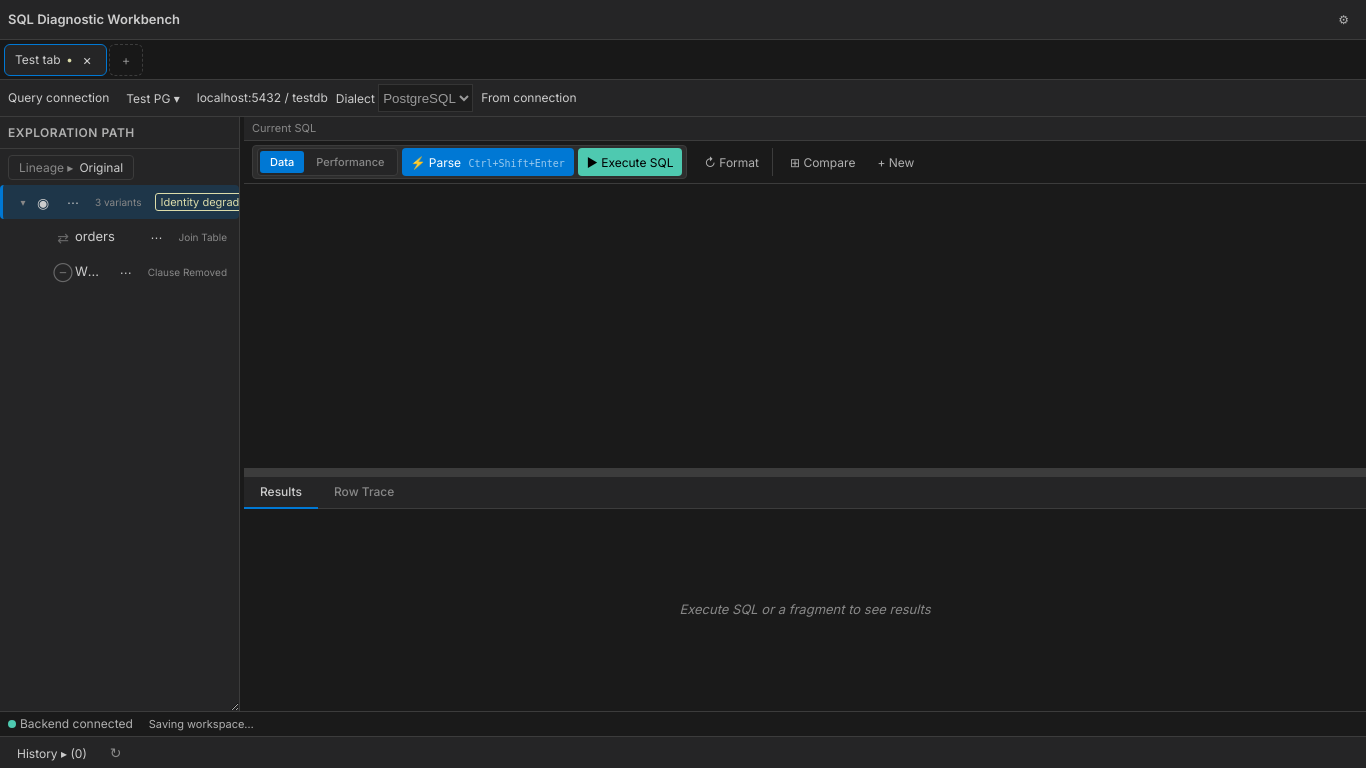
Scenario: App fragment-edit notice — degraded source (spec §5) › blank source marker still states the degradation, with no empty Reason tail
Check: the button "▶ Execute SQL" is shown, box [578,148,682,176]
Right-click the list item "▾ ◉ ⋯ 3 variants Identity degraded": [120, 202] box [0,185,239,219]
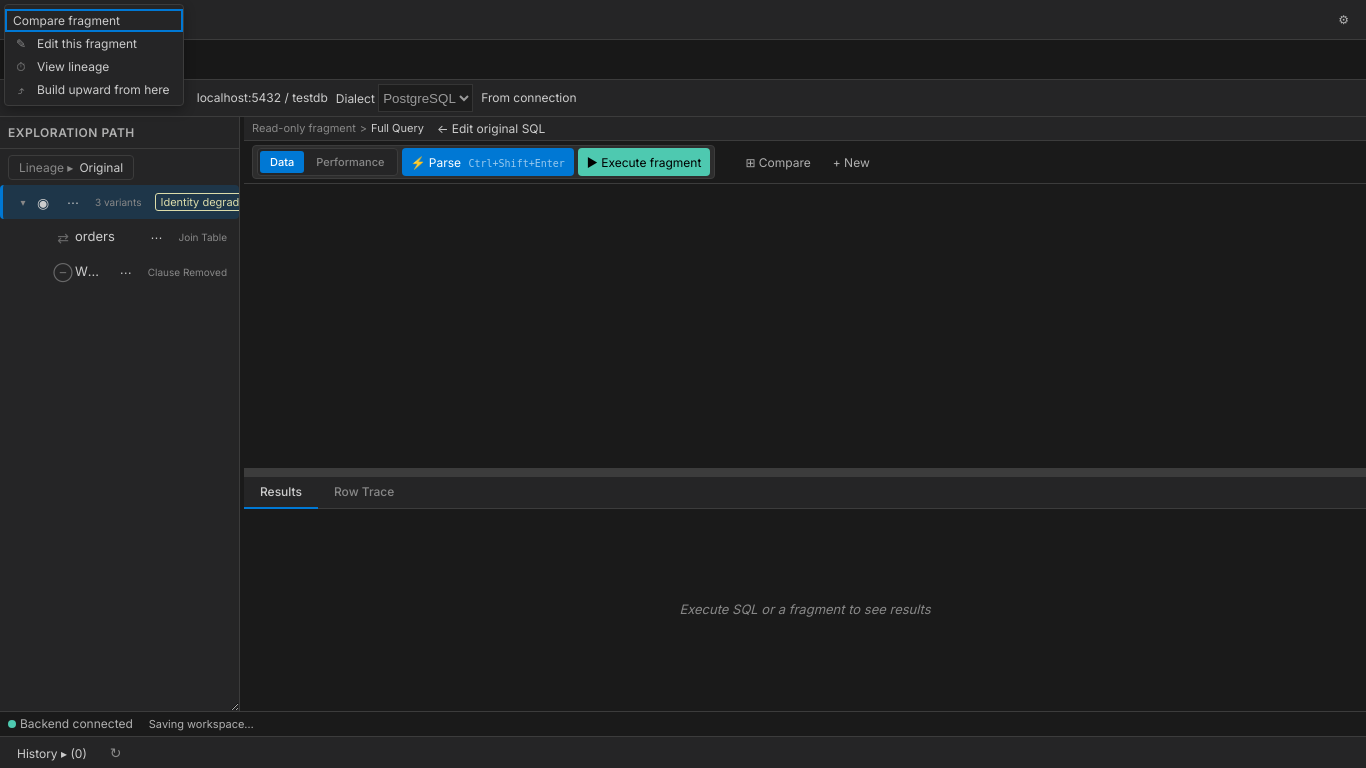
Click the menu item "✎ Edit this fragment": [94, 44] box [5,32,183,55]
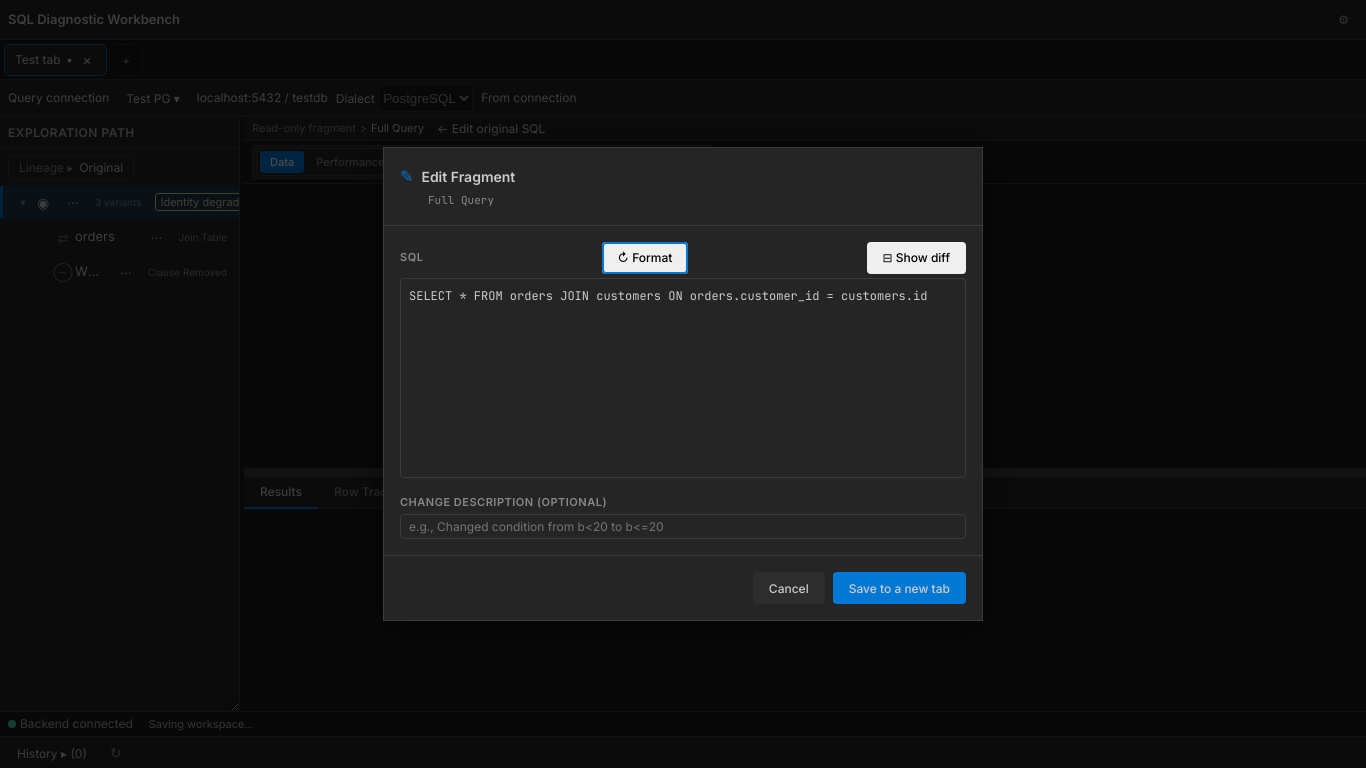
Replace the text in the text box named "SQL fragment editor" with "SELECT 2": [683, 378] box [400,278,966,478]
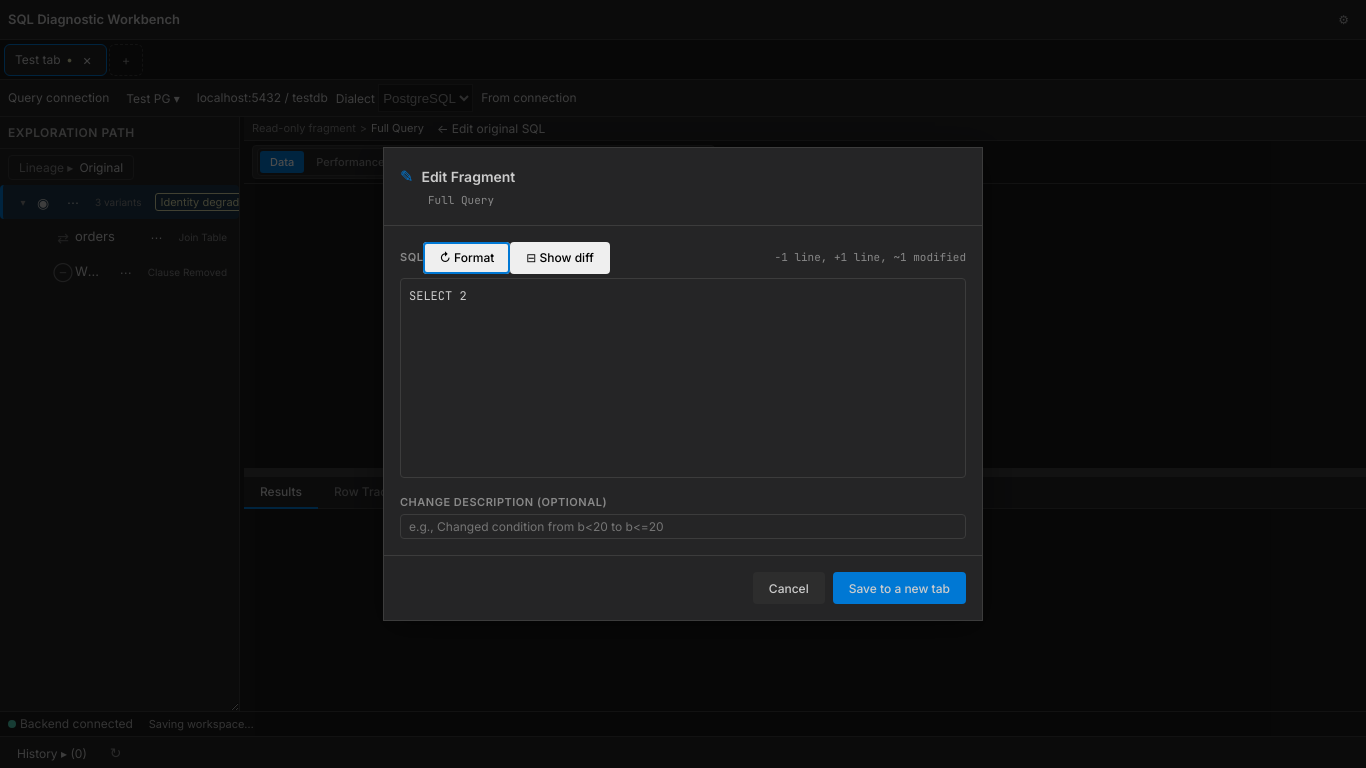
Click the button "Save to a new tab": [899, 588] box [833,572,966,604]
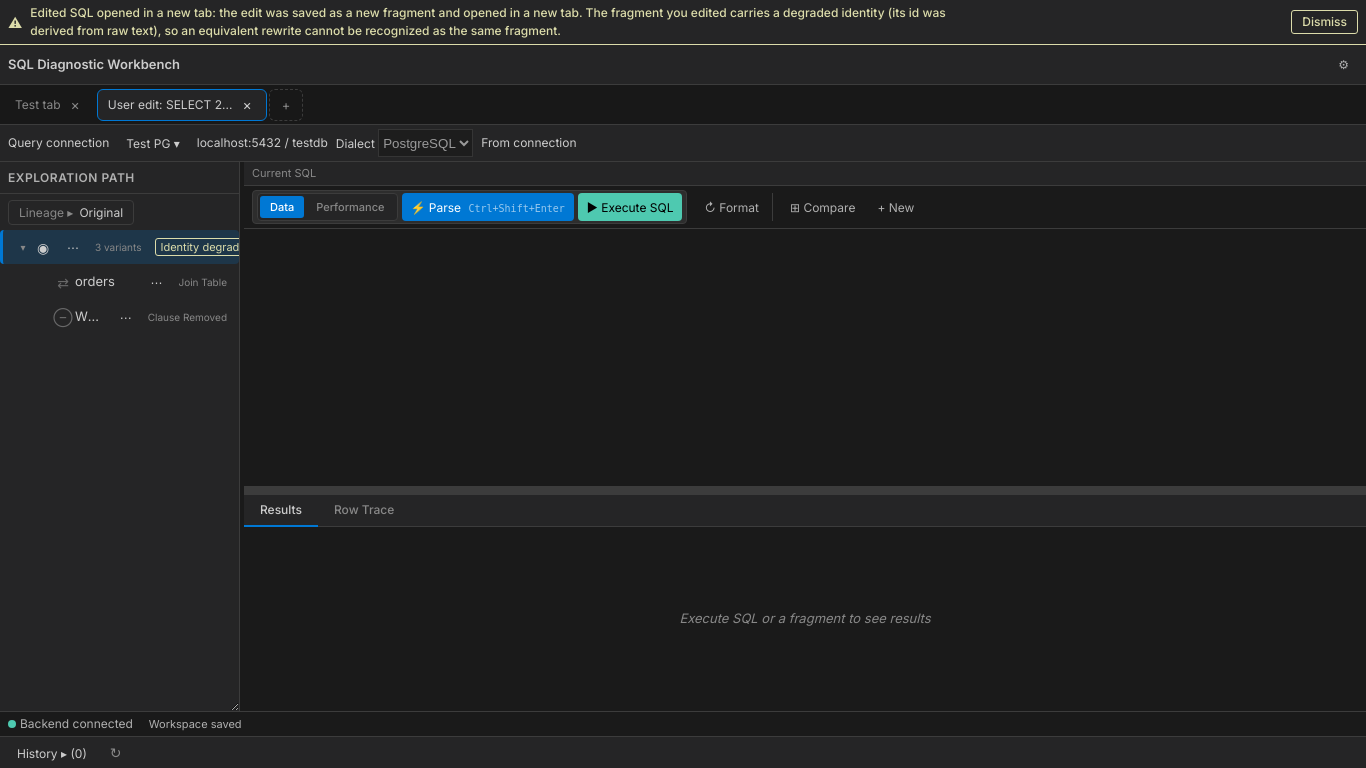
Check: the text "carries a degraded identity" does not show "Reason:", box [0,0,1365,45]
Check: the text "carries a degraded identity" is shown, box [30,5,946,38]
Check: the text "carries a degraded identity" shows "Edited SQL opened in a new tab", box [30,5,212,20]
